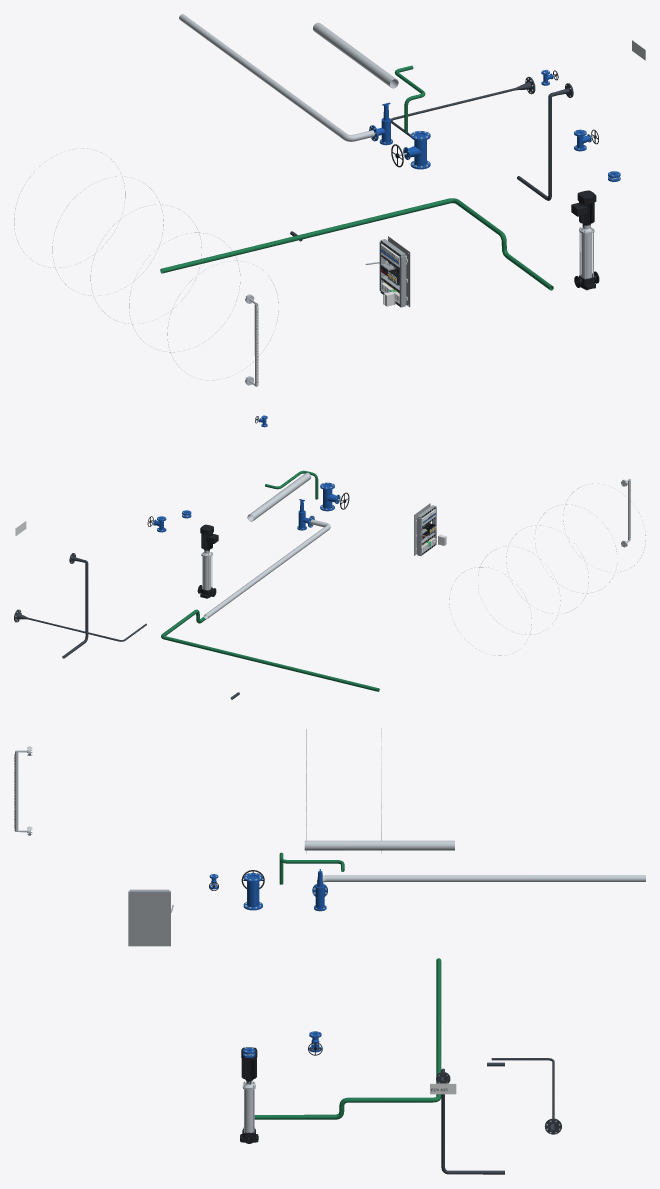
3 renders of one model, top to bottom at view 1: azimuth 30°, elevation 25°; view 2: azimuth 150°, elevation 25°; view 3: azimuth 270°, elevation 25°, orthographic. The views are drawn at different scales.
Parts seen in each view (by area): view 1: suction_common / green, cabinet_interior / cabinet_interior_0.npz, safety_vent_2 / steel, deaerator_details / steel, steam_delivery / steel, bottom_to_bdv / dark, steam_manual / blue, pump_1 CAD solid 15, tds_to_fv / dark, pump_1 CAD solid 2; view 2: suction_common / green, cabinet_interior / cabinet_interior_0.npz, safety_vent_2 / steel, deaerator_details / steel, bottom_to_bdv / dark, steam_delivery / steel, tds_to_fv / dark; view 3: cabinet_interior / cabinet_interior_0.npz, safety_vent_2 / steel, suction_common / green, steam_delivery / steel, bottom_to_bdv / dark, deaerator_details / steel.
Part boxes in pixels (x1=…): suction_common / green: x1=160, y1=198, x2=553, y2=290; cabinet_interior / cabinet_interior_0.npz: x1=365, y1=236, x2=410, y2=307; safety_vent_2 / steel: x1=179, y1=14, x2=374, y2=141; deaerator_details / steel: x1=14, y1=148, x2=278, y2=386; steam_delivery / steel: x1=313, y1=22, x2=377, y2=73; bottom_to_bdv / dark: x1=517, y1=83, x2=573, y2=200; steam_manual / blue: x1=403, y1=131, x2=430, y2=169; pump_1 CAD solid 15: x1=571, y1=190, x2=596, y2=224; tds_to_fv / dark: x1=391, y1=76, x2=535, y2=137; pump_1 CAD solid 2: x1=581, y1=233, x2=592, y2=278; suction_common / green: x1=161, y1=609, x2=379, y2=691; cabinet_interior / cabinet_interior_0.npz: x1=414, y1=503, x2=436, y2=555; safety_vent_2 / steel: x1=204, y1=519, x2=330, y2=619; deaerator_details / steel: x1=449, y1=478, x2=645, y2=655; bottom_to_bdv / dark: x1=62, y1=553, x2=88, y2=658; steam_delivery / steel: x1=247, y1=483, x2=297, y2=521; tds_to_fv / dark: x1=14, y1=609, x2=146, y2=641; cabinet_interior / cabinet_interior_0.npz: x1=128, y1=889, x2=173, y2=946; safety_vent_2 / steel: x1=317, y1=875, x2=645, y2=883; suction_common / green: x1=254, y1=958, x2=441, y2=1119; steam_delivery / steel: x1=341, y1=840, x2=454, y2=850; bottom_to_bdv / dark: x1=436, y1=1068, x2=504, y2=1174; deaerator_details / steel: x1=14, y1=728, x2=381, y2=853.
Bounding box in the file's own units: 8.4 × 3.02 × 7.17.
